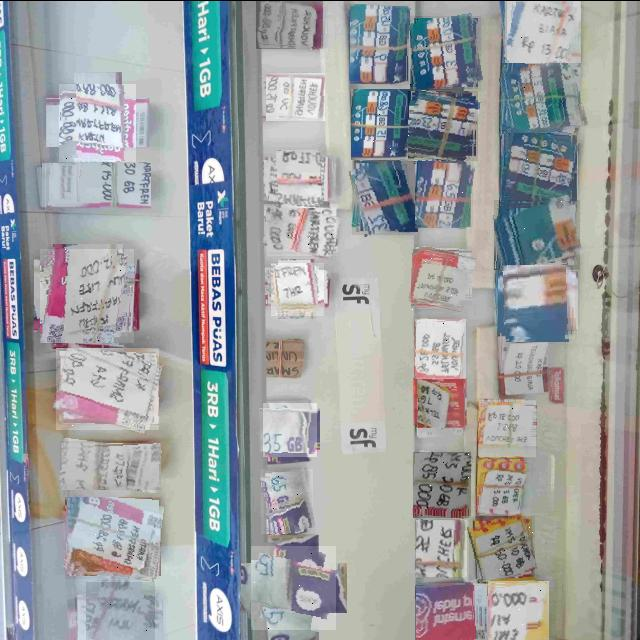Axis: (251, 545, 336, 629), (261, 468, 313, 533), (263, 402, 317, 457)
Gratis Nelpon: (502, 62, 585, 139), (494, 199, 580, 269), (502, 132, 577, 207), (500, 264, 575, 338), (410, 15, 481, 90), (507, 0, 581, 67), (408, 90, 478, 160), (352, 160, 418, 234), (350, 4, 409, 84), (351, 88, 410, 159), (415, 160, 473, 227)
Indosat-3: (416, 582, 475, 640)
im3: (469, 515, 535, 579), (411, 246, 473, 309), (413, 451, 471, 517), (488, 580, 549, 640), (479, 399, 536, 456), (477, 458, 531, 516), (415, 318, 466, 378), (416, 519, 467, 576), (415, 375, 465, 426)
smartfren: (40, 248, 134, 342), (56, 347, 159, 429), (65, 496, 161, 578), (59, 83, 136, 161), (42, 162, 150, 210), (60, 440, 161, 489), (86, 581, 155, 640), (264, 203, 338, 255), (256, 0, 323, 48), (266, 72, 325, 120), (271, 262, 324, 315), (272, 152, 324, 204)
